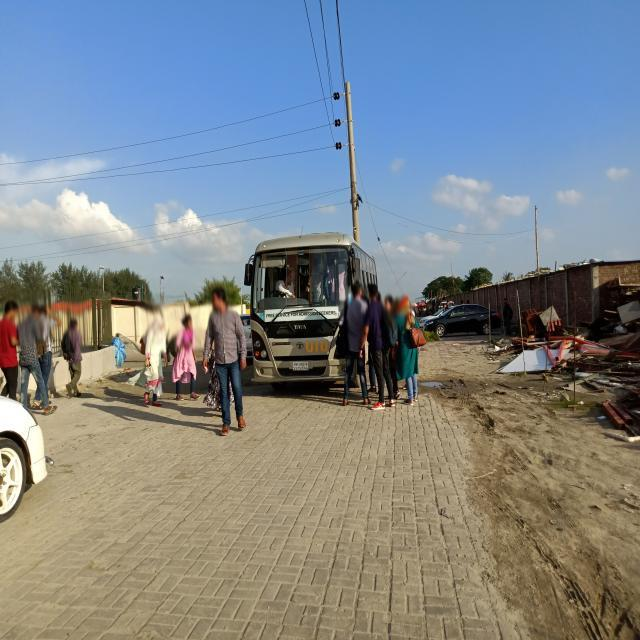bus: (244, 231, 379, 381)
